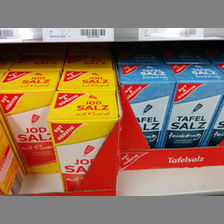spices: (47, 91, 118, 194), (1, 70, 60, 174), (167, 64, 224, 149), (119, 64, 172, 148)
